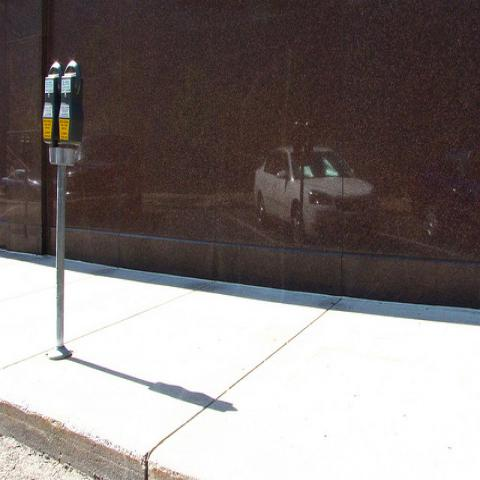car: (254, 146, 376, 242)
